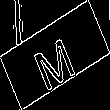M_NW: (30, 22, 80, 88)
